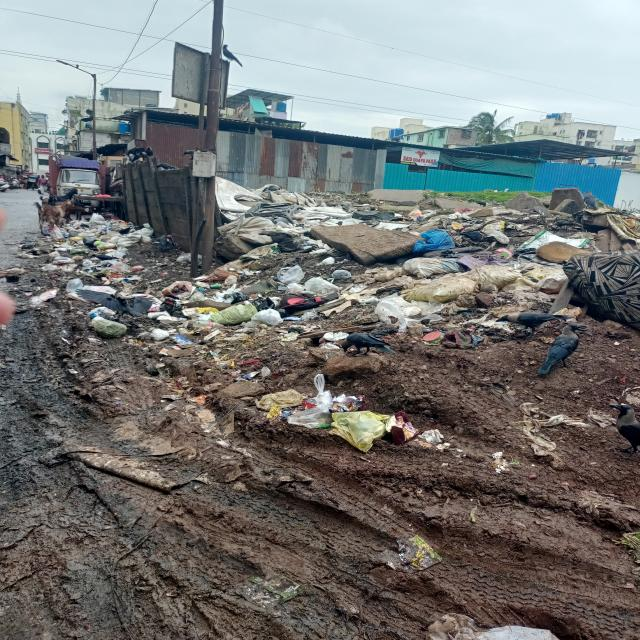garbage: (211, 192, 640, 343), (21, 215, 215, 347), (225, 358, 440, 451)
